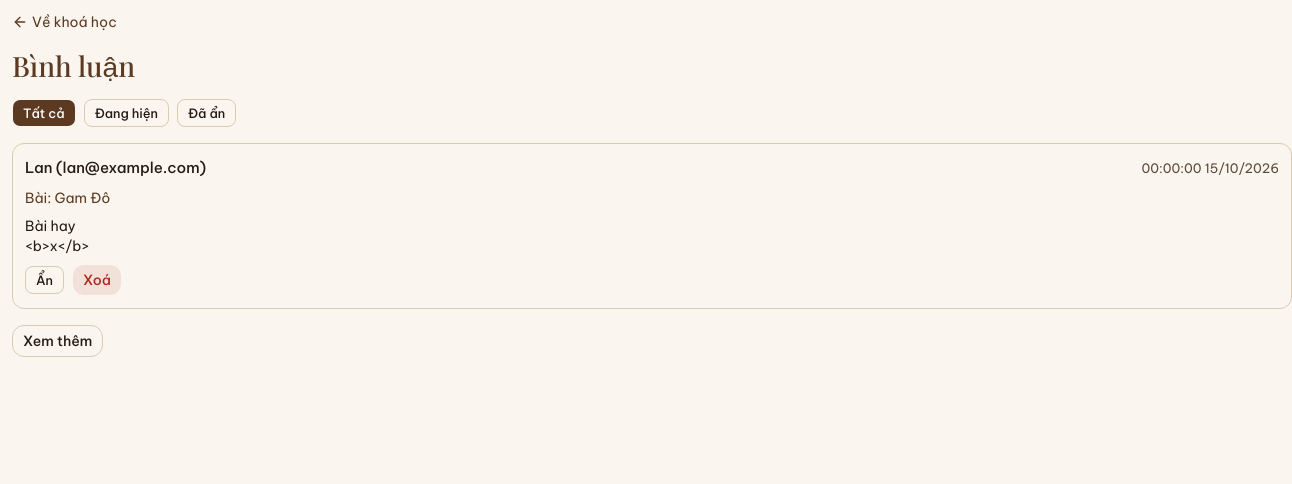
Kiểm duyệt bình luận (C4) › Xem thêm nối trang kế bằng cursor
Click the button "Xem thêm" at (58, 341), box [12,325,103,357]
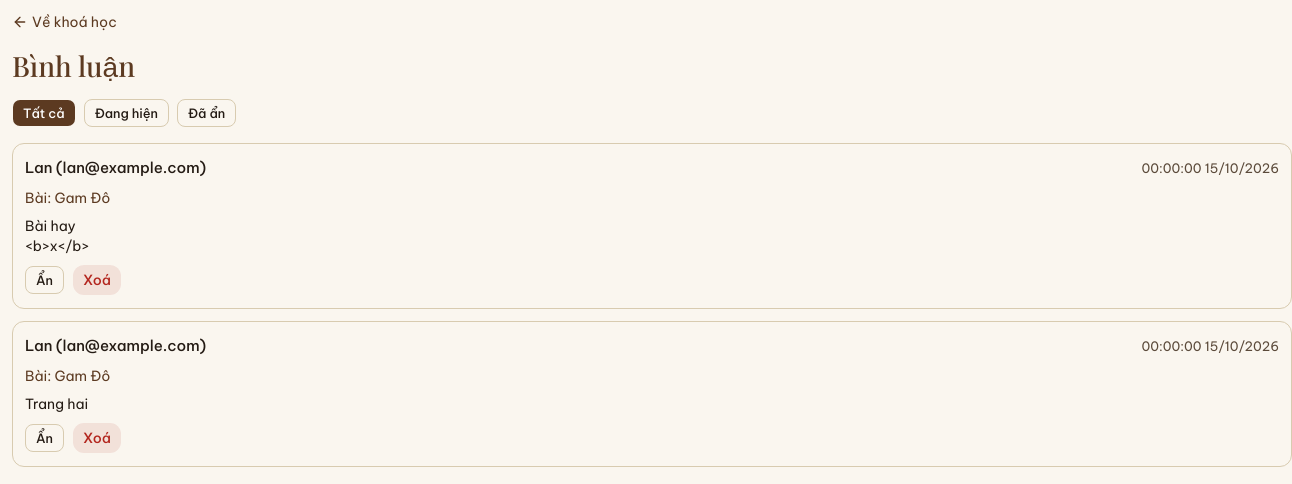
Check: the text "Trang hai" is shown, box [25,395,88,413]
Check: the button "Xem thêm" is gone
